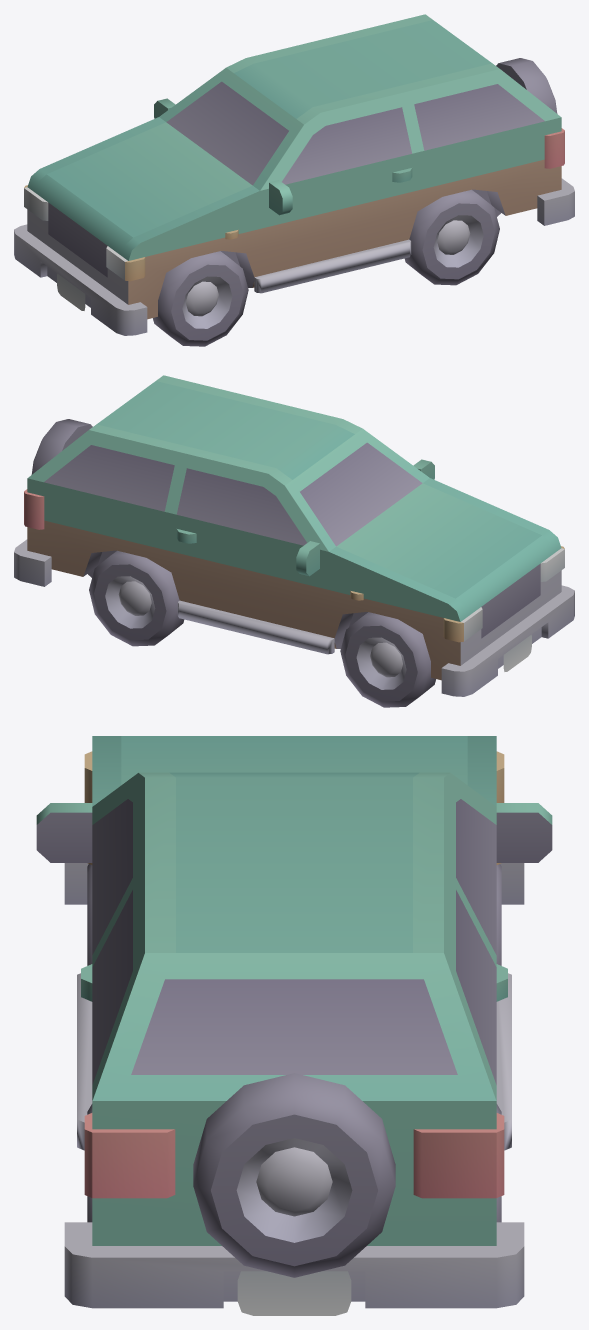
File: car.glb
The picture shows the model from 3 angles, top to bottom: view 1: azimuth 30°, elevation 25°; view 2: azimuth 150°, elevation 25°; view 3: azimuth 270°, elevation 25°; orthographic projection. The views are drawn at different scales.
Visible parts, largest first — view 1: car; view 2: car; view 3: car.
Part boxes in pixels (box(x1,y1,x2,y2)): car: box(14, 14, 574, 346); car: box(14, 375, 574, 707); car: box(36, 736, 552, 1315).
Size of the model in its own units: 3.52 by 1.38 by 1.67.
